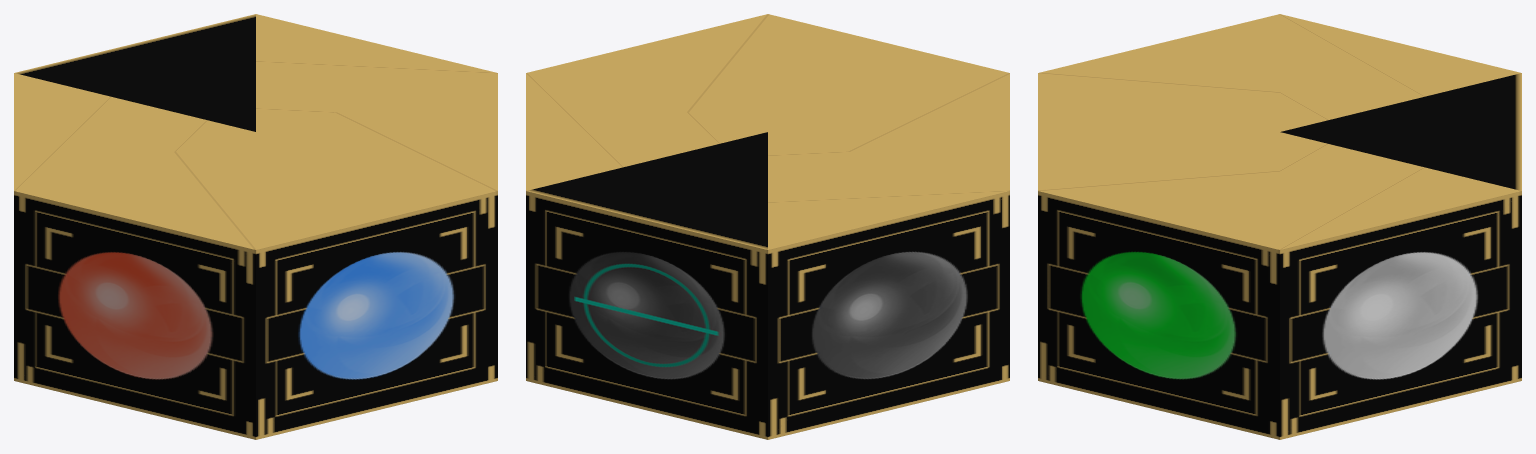
File: scrollWheelFBX.fbx
3 renders of one model, left to right at view 1: azimuth 30°, elevation 25°; view 2: azimuth 150°, elevation 25°; view 3: azimuth 270°, elevation 25°, orthographic.
Parts seen in each view (by area): view 1: pCylinder1; view 2: pCylinder1; view 3: pCylinder1.
Boxes of the visible parts, bbox=[...] form: pCylinder1: bbox=[14, 14, 497, 439]; pCylinder1: bbox=[526, 14, 1009, 439]; pCylinder1: bbox=[1038, 14, 1521, 439].
Bounding box in the file's own units: 2 × 0.75 × 1.73.
Materials: 1 (1 with a texture image).
